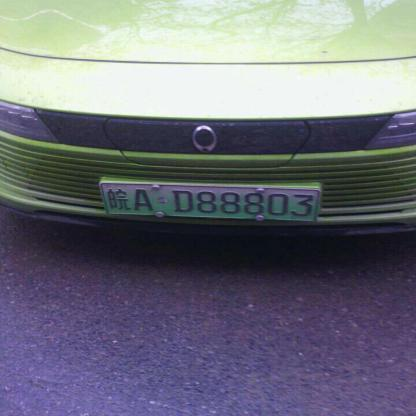lp: (100, 182, 322, 222)
